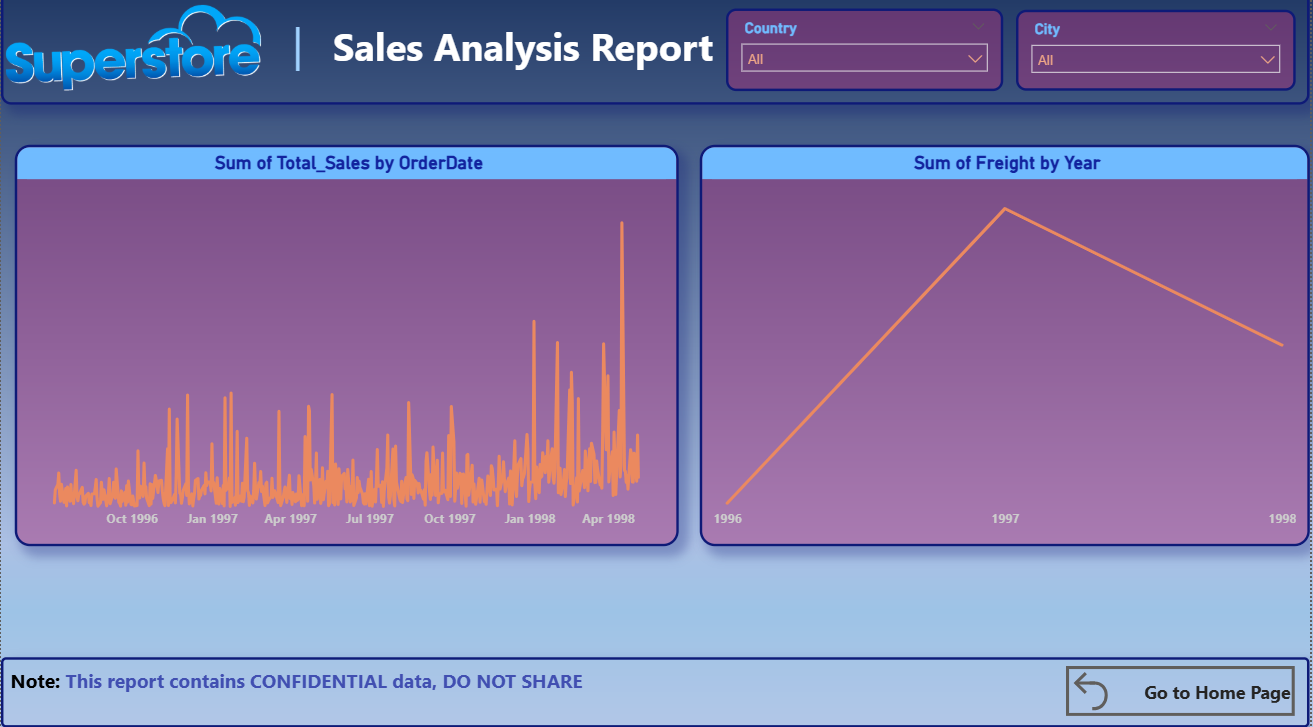

The page's visual inventory and layout, read from the dashboard file:
{"tool":"powerbi","page":{"name":"Freight & Sales - Trends","canvas":[1280,720],"ordinal":3},"visuals":[{"type":"textbox","box":[0,0,1280.3,111.3],"z":0},{"type":"image","box":[0,0,259.2,111.3],"z":1000},{"type":"textbox","box":[272.7,17.1,436.6,94.2],"z":2000},{"type":"textbox","box":[0,651.8,1280.3,68.5],"z":3000},{"type":"slicer","fields":{"Values":["Customers.City"]},"box":[992.9,18.3,273.9,79.5],"z":4000},{"type":"actionButton","box":[1041.9,660.3,223.8,48.9],"z":5000},{"type":"slicer","fields":{"Values":["Customers.Country"]},"box":[709.2,17.1,271.5,80.7],"z":6000},{"type":"lineChart","fields":{"Y":["Sum(Order_Details.Total_Sales)"],"Category":["Orders.OrderDate.Variation.Date Hierarchy.Year"]},"box":[13.5,150.4,649.3,392.5],"z":8000},{"type":"lineChart","fields":{"Category":["Dim_Date.Date.Variation.Date Hierarchy.Year","Dim_Date.Date.Variation.Date Hierarchy.Quarter","Dim_Date.Date.Variation.Date Hierarchy.Month","Dim_Date.Date.Variation.Date Hierarchy.Day"],"Y":["Sum(Orders.Freight)"]},"box":[683.6,150.4,596.7,392.5],"z":9000}]}

Visuals, with their boxes in screenshot pixels (x1, y1, x2, y2), scaled from the page's 1280x720 canvas onto the 1313x727 screenshot:
textbox: <region>0, 0, 1312, 112</region>
image: <region>0, 0, 266, 112</region>
textbox: <region>280, 17, 728, 112</region>
textbox: <region>0, 658, 1312, 726</region>
slicer - Customers.City: <region>1018, 18, 1299, 99</region>
actionButton: <region>1069, 667, 1298, 716</region>
slicer - Customers.Country: <region>727, 17, 1006, 99</region>
lineChart - Sum(Order_Details.Total_Sales) x Orders.OrderDate.Variation.Date Hierarchy.Year: <region>14, 152, 680, 548</region>
lineChart - Dim_Date.Date.Variation.Date Hierarchy.Year x Dim_Date.Date.Variation.Date Hierarchy.Quarter: <region>701, 152, 1312, 548</region>
